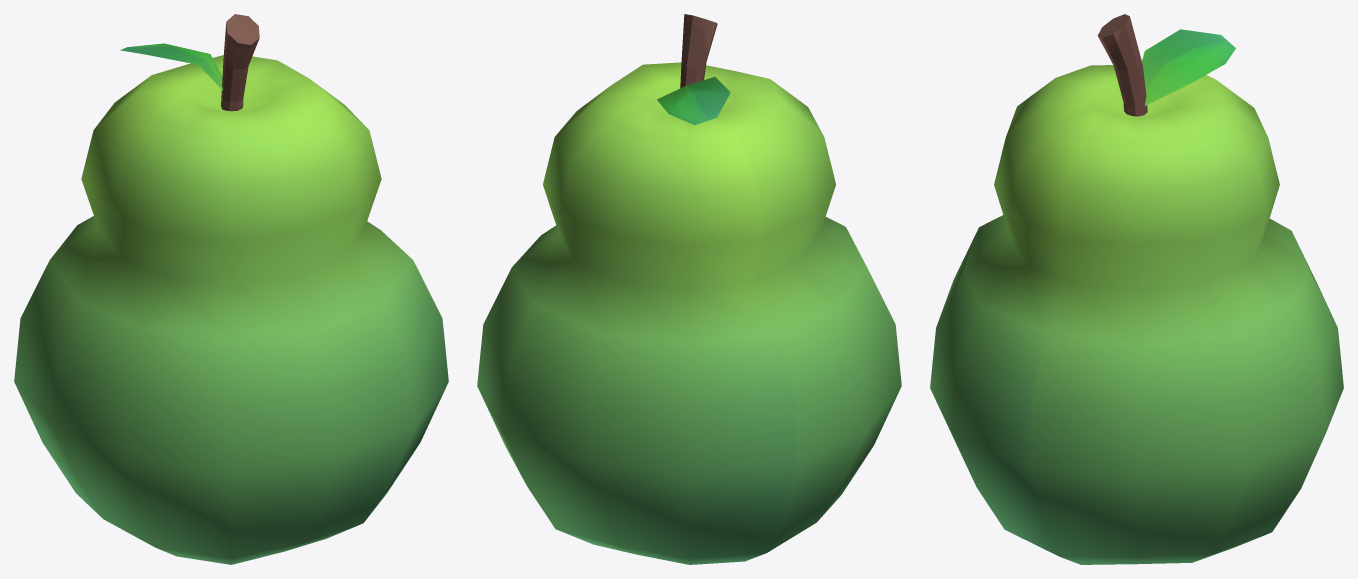
File: Mesh_Pear.fbx
The picture shows the model from 3 angles, left to right: view 1: azimuth 30°, elevation 25°; view 2: azimuth 150°, elevation 25°; view 3: azimuth 270°, elevation 25°; orthographic projection.
Parts seen in each view (by area): view 1: Pear; view 2: Pear; view 3: Pear.
Boxes of the visible parts, x1,y1,x2,y2 form: Pear: (14, 14, 448, 564); Pear: (477, 14, 901, 564); Pear: (930, 14, 1343, 564).
Bounding box in the file's own units: 182 × 250 × 182.
